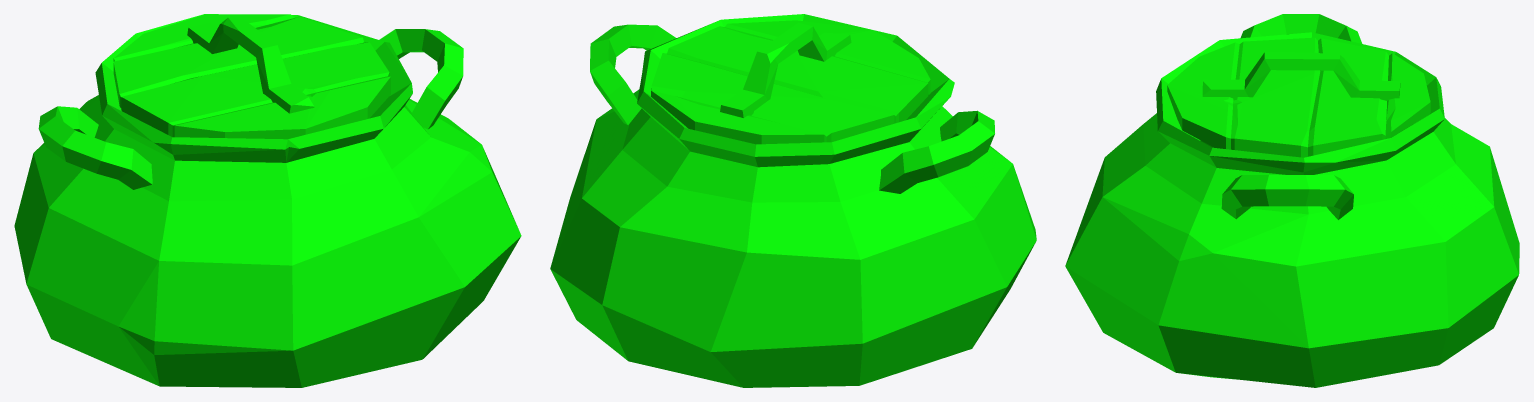
Rendered from SM_Vase_Short_Closed_Fantasy.fbx.
3 views of the same model, side by side, from view 1: azimuth 30°, elevation 25°; view 2: azimuth 150°, elevation 25°; view 3: azimuth 270°, elevation 25° (orthographic). The views are drawn at different scales.
Parts seen in each view (by area): view 1: vase-short-closed-fantasy; view 2: vase-short-closed-fantasy; view 3: vase-short-closed-fantasy.
Boxes of the visible parts, <box> form: vase-short-closed-fantasy: <box>14,14,521,387</box>; vase-short-closed-fantasy: <box>550,14,1036,387</box>; vase-short-closed-fantasy: <box>1065,14,1519,387</box>.
Bounding box in the file's own units: 0.5864 × 0.369 × 0.565.
